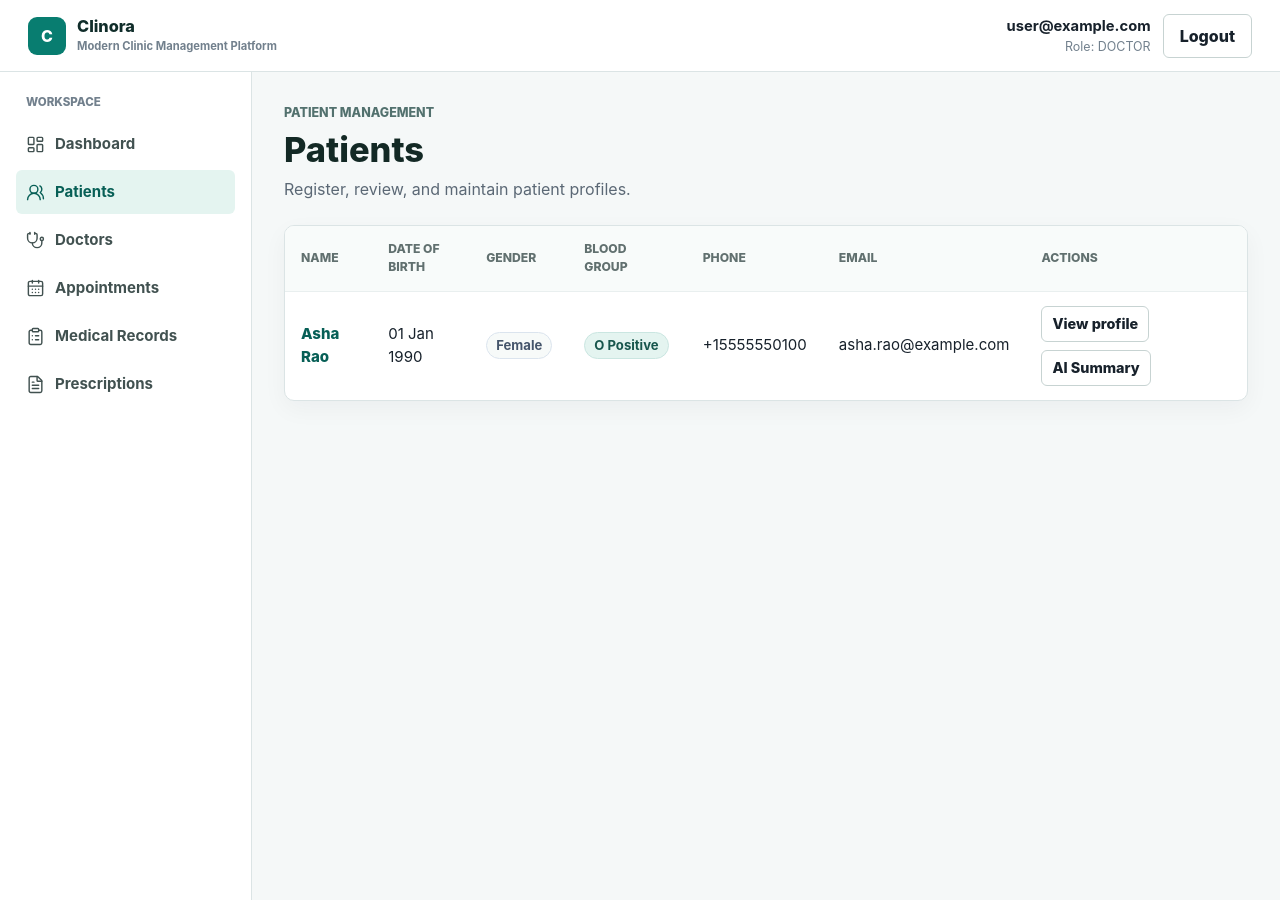
Test: PatientsPage › generates an AI patient history summary for doctor users
The image size is (1280, 900).
Click the button "AI Summary": click(1096, 368) [1041,350,1151,386]
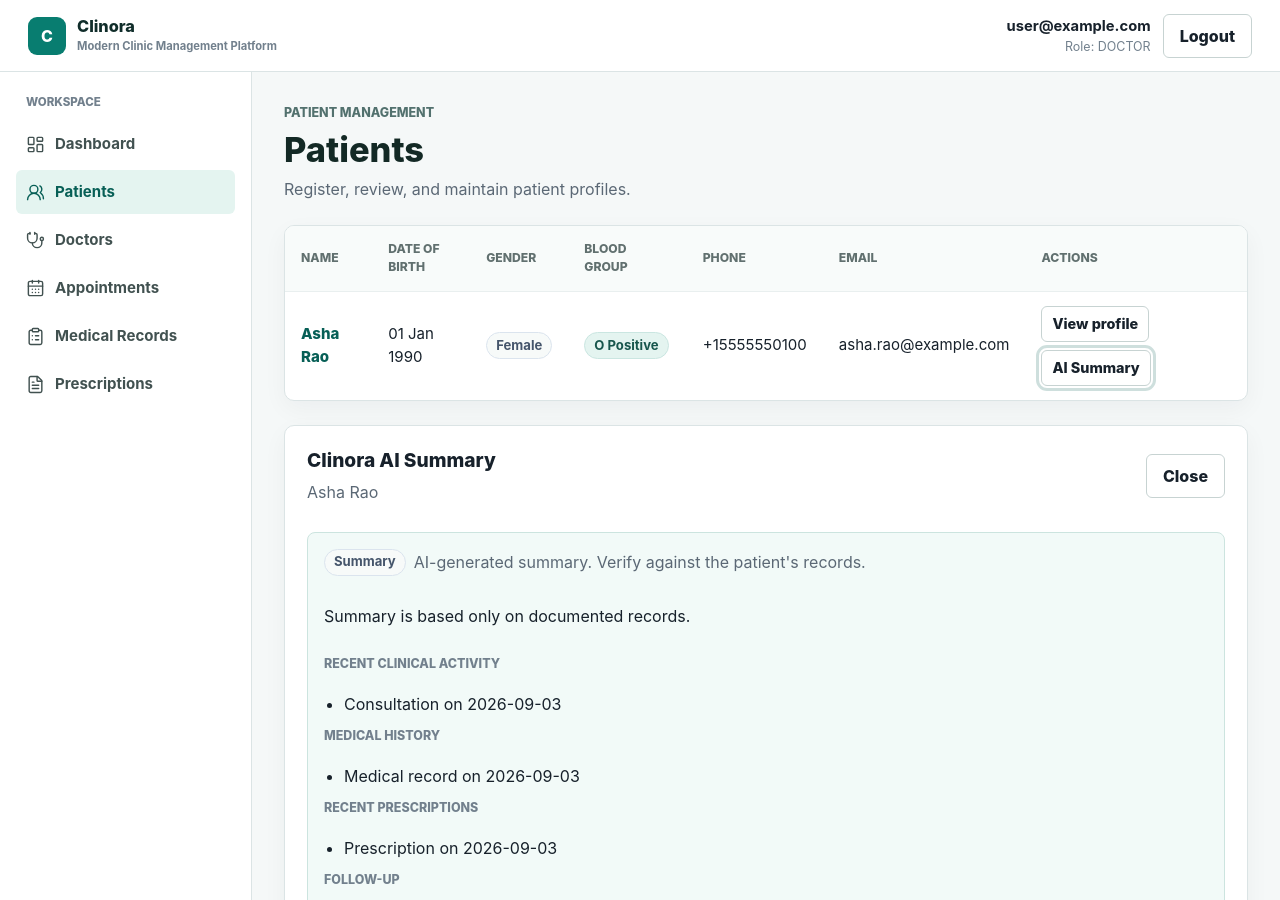
Expected: the heading "Clinora AI Summary" is shown, [307,448,496,472]
Expected: the text "Summary is based only on documented records." is shown, [324,606,690,626]
Expected: the text "AI-generated summary. Verify against the patient's records." is shown, [414,550,866,574]
